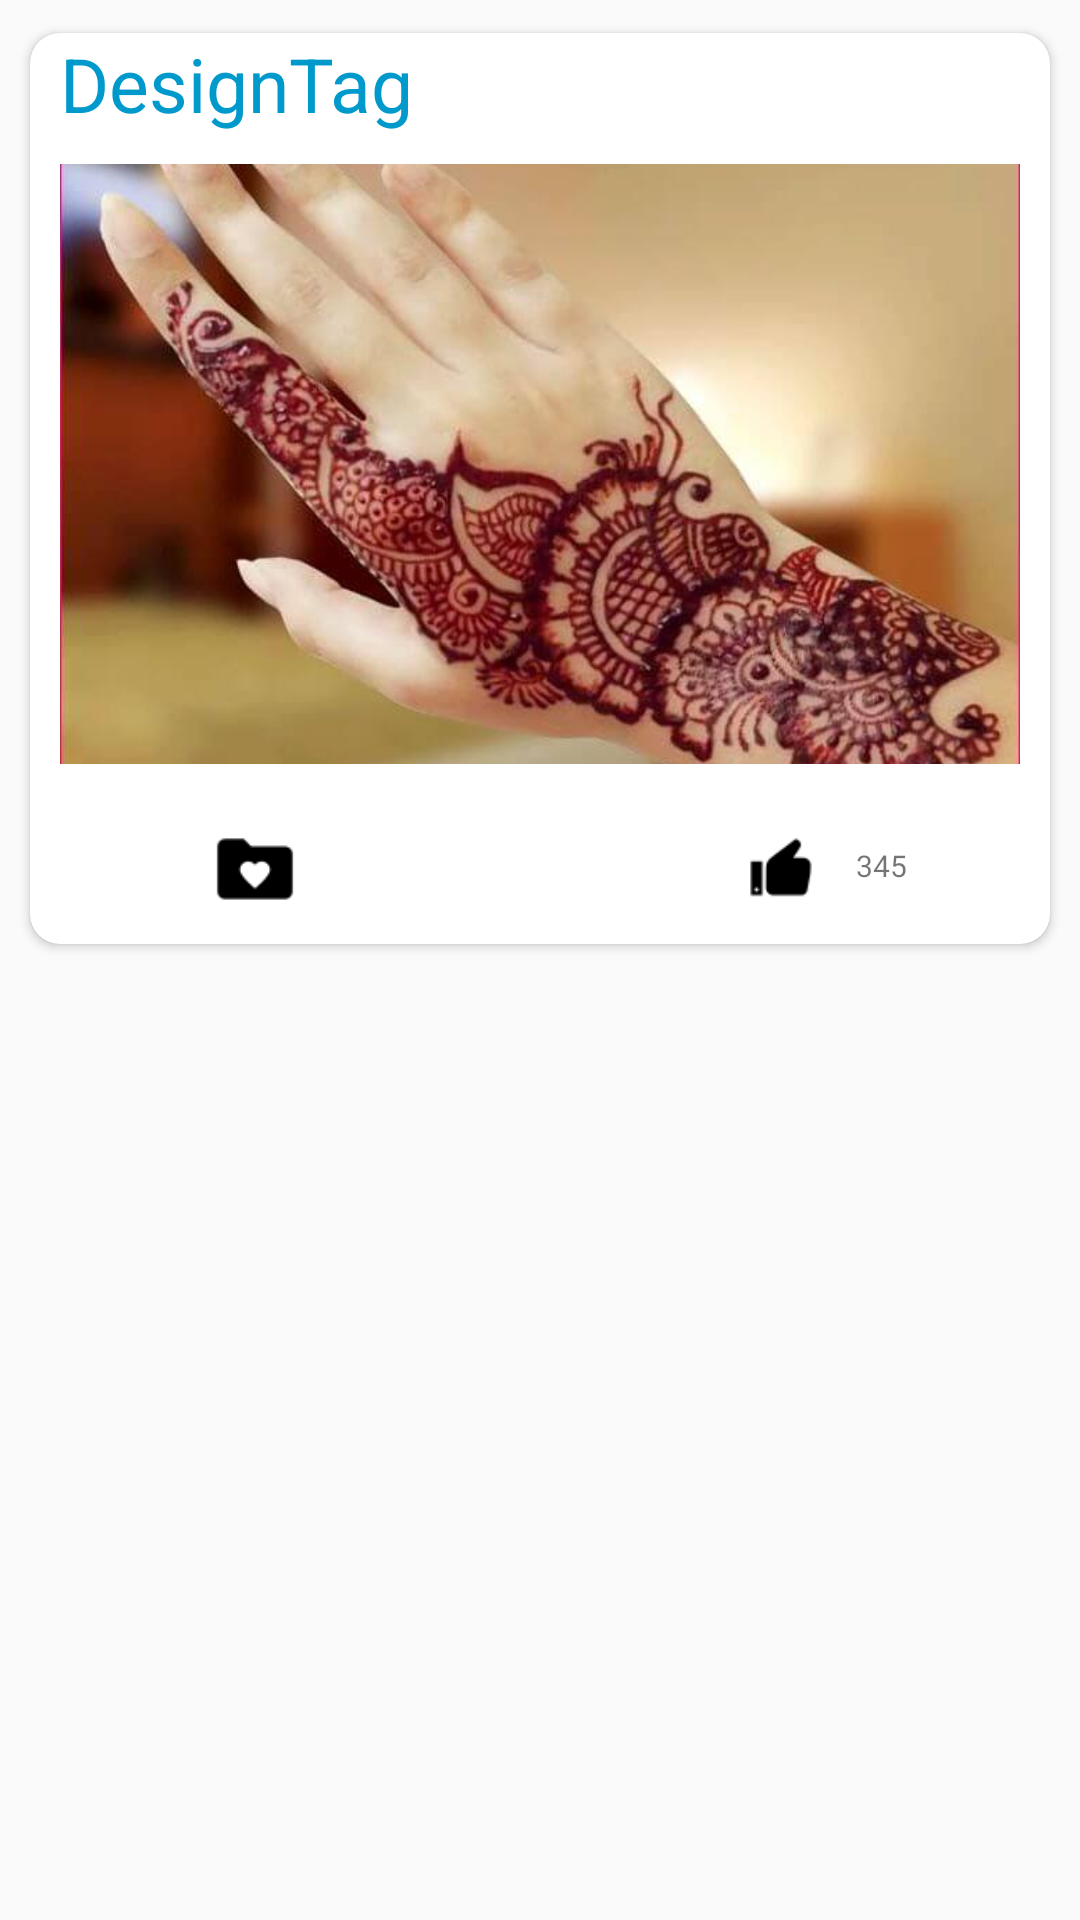

Icon bounding boxes for this 1080x1920 phone screenshot, format rect(x1, y1, x2, y2):
favorite: rect(217, 838, 293, 900)
like: rect(750, 838, 812, 897)
